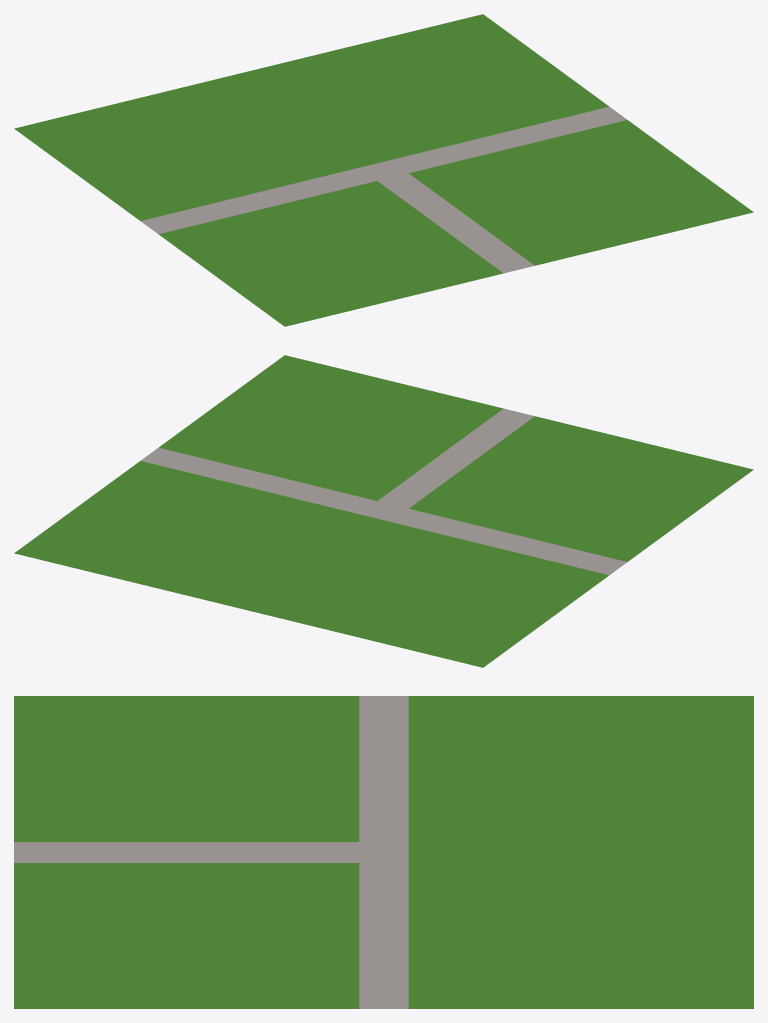
The model's file is tiles-nb_tile-sidewalk-intersection-t-nb.fbx.
The picture shows the model from 3 angles, top to bottom: view 1: azimuth 30°, elevation 25°; view 2: azimuth 150°, elevation 25°; view 3: azimuth 270°, elevation 25°; orthographic projection. The views are drawn at different scales.
Parts seen in each view (by area): view 1: tiles_nb_tile_sidewalk_intersection_t_nb; view 2: tiles_nb_tile_sidewalk_intersection_t_nb; view 3: tiles_nb_tile_sidewalk_intersection_t_nb.
Boxes of the visible parts, box(x1,y1,x2,y2) form: tiles_nb_tile_sidewalk_intersection_t_nb: box(14, 14, 753, 326); tiles_nb_tile_sidewalk_intersection_t_nb: box(14, 355, 753, 667); tiles_nb_tile_sidewalk_intersection_t_nb: box(14, 696, 753, 1008).
Size of the model in its own units: 200 by 1.99e-05 by 200.
